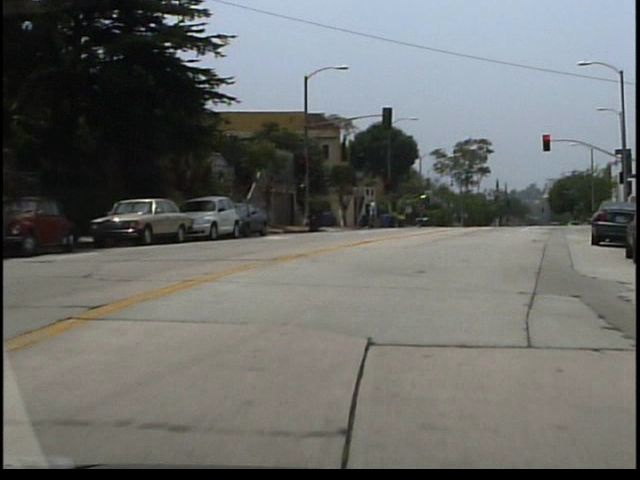person: (371, 199, 383, 232), (342, 204, 350, 230)
